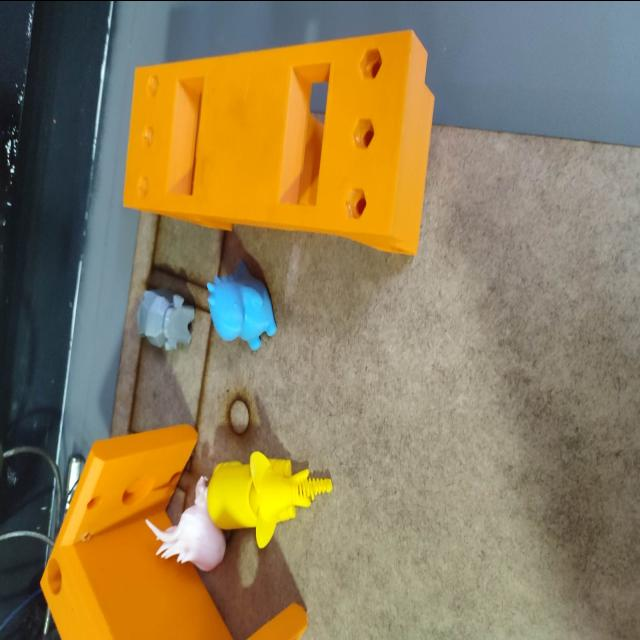DINO: (199, 250, 273, 356)
